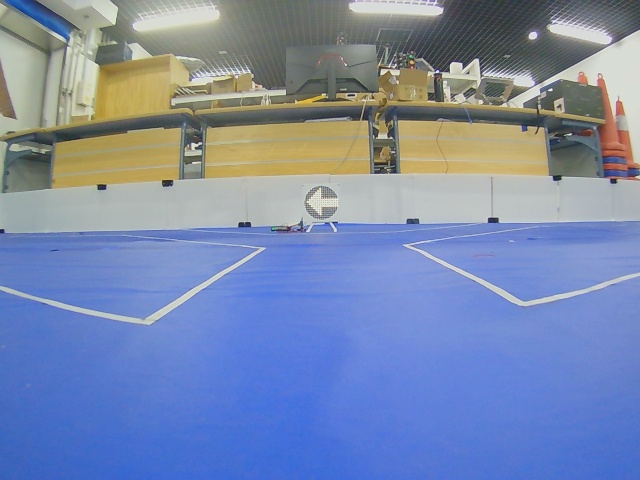left_yellow: (304, 186, 339, 220)
